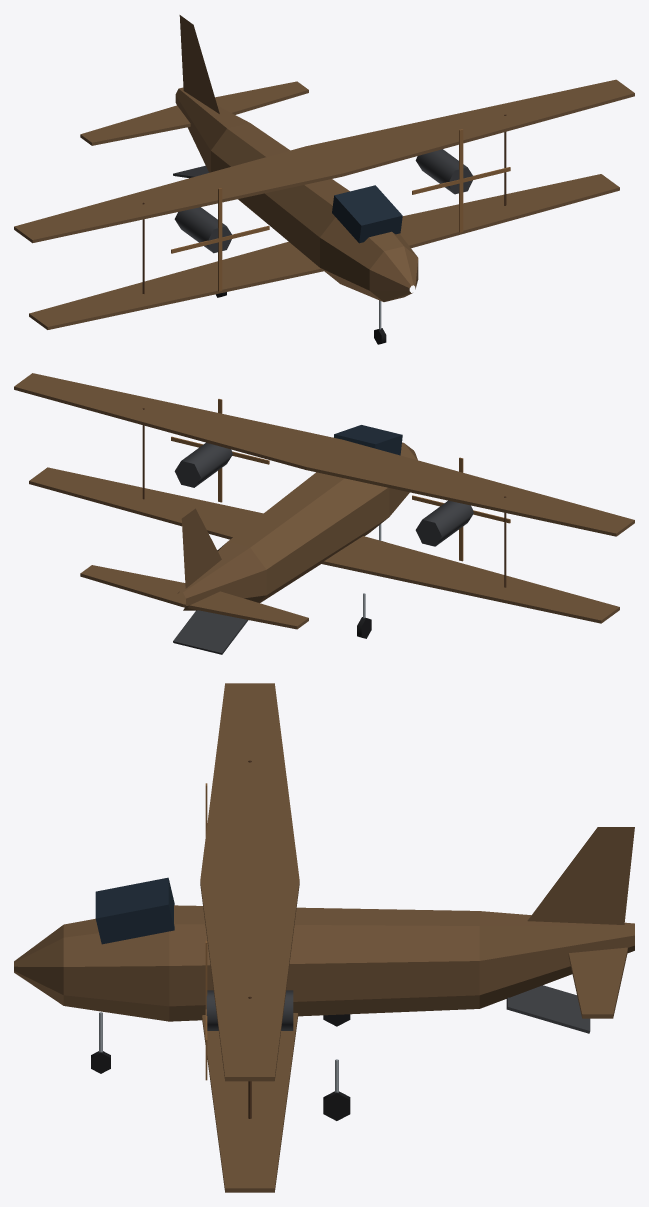
The model's file is veh_air_transport_plane_a05.glb.
The picture shows the model from 3 angles, top to bottom: view 1: azimuth 30°, elevation 25°; view 2: azimuth 150°, elevation 25°; view 3: azimuth 270°, elevation 25°; orthographic projection. The views are drawn at different scales.
Parts seen in each view (by area): view 1: body, propeller_1, propeller_0; view 2: body, ramp, propeller_1, propeller_0; view 3: body, ramp, gear_2.
Boxes of the visible parts, x1,y1,x2,y2 form: body: (14,15,634,329); propeller_1: (412,129,510,232); propeller_0: (171,188,269,291); body: (14,373,634,629); ramp: (173,610,248,654); propeller_1: (171,399,269,502); propeller_0: (412,457,510,561); body: (14,683,634,1192); ramp: (506,985,590,1033); gear_2: (323,1059,350,1120).
Size of what is drawn, in the model's own units: 24 by 7 by 16.
